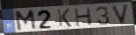2: (36, 8, 55, 31)
3: (95, 5, 111, 26)
H: (74, 7, 94, 28)
K: (56, 9, 73, 28)
M: (14, 9, 38, 32)
V: (111, 3, 131, 25)
